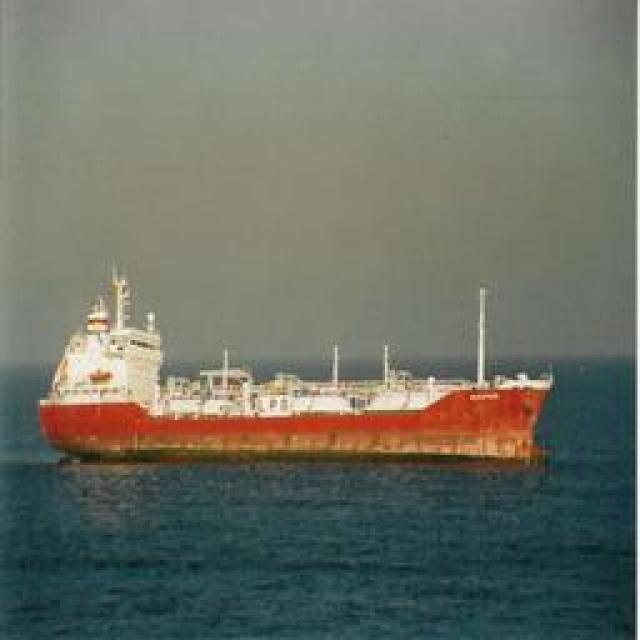CIV_Ship: (42, 271, 560, 459)
